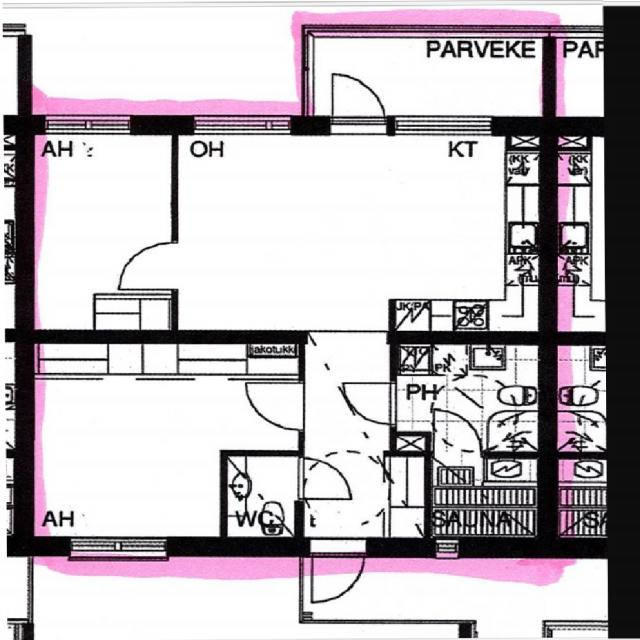door: (331, 69, 383, 136), (312, 536, 363, 603), (246, 383, 304, 429), (120, 243, 178, 288), (434, 409, 481, 458), (296, 458, 350, 499), (344, 383, 396, 423)
